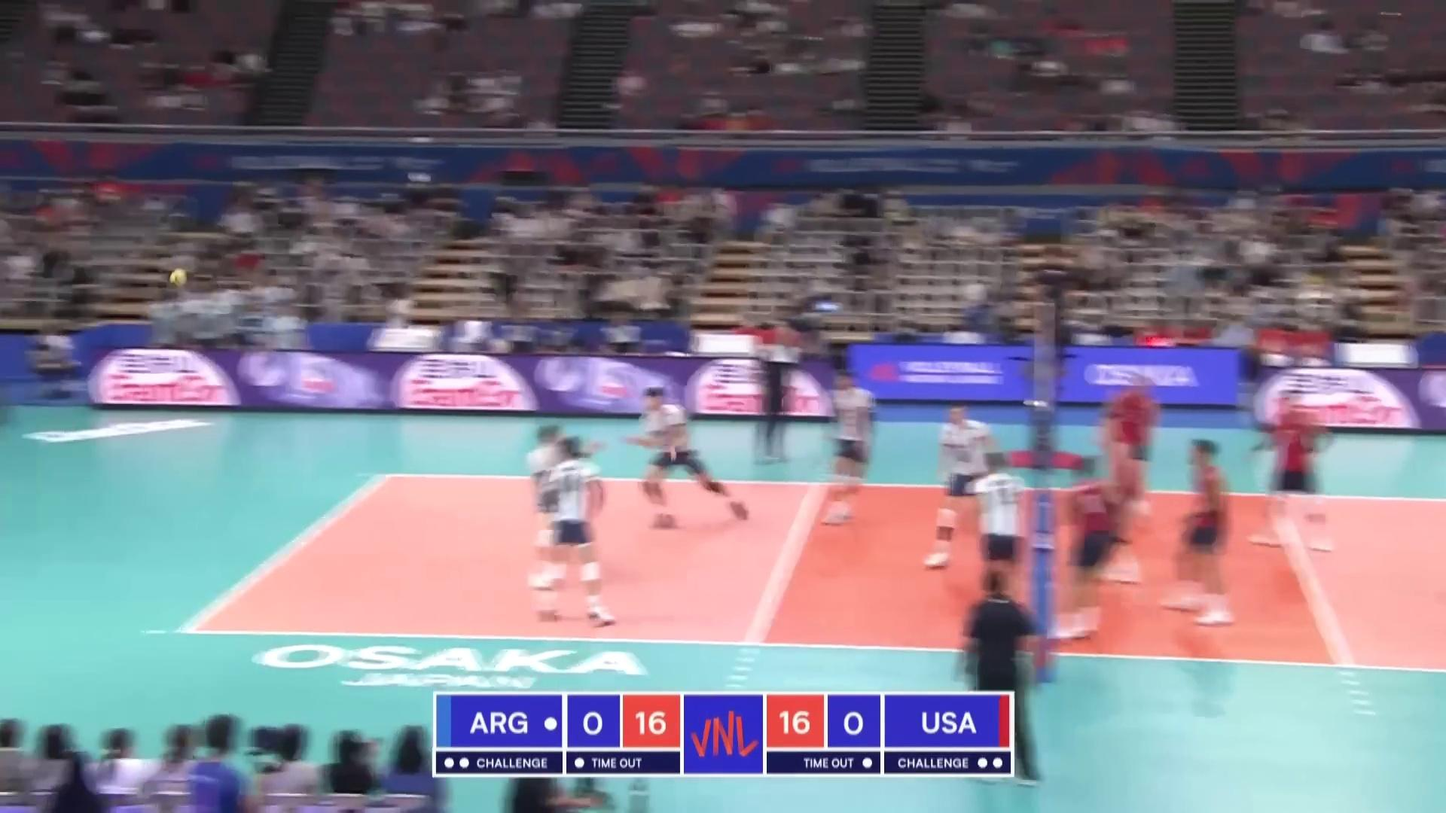player: (635, 384, 746, 528), (534, 436, 617, 625), (1249, 391, 1338, 554), (1050, 455, 1125, 645), (1171, 435, 1244, 629), (925, 399, 1003, 575), (973, 449, 1029, 632), (531, 424, 589, 590), (819, 368, 876, 531), (1103, 372, 1160, 524)
refree: (954, 570, 1045, 787)
